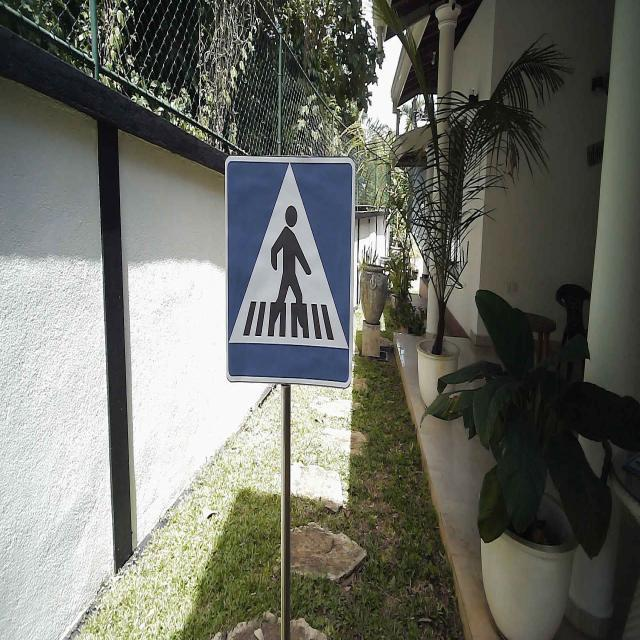crosswalk_sign: (222, 154, 358, 392)
